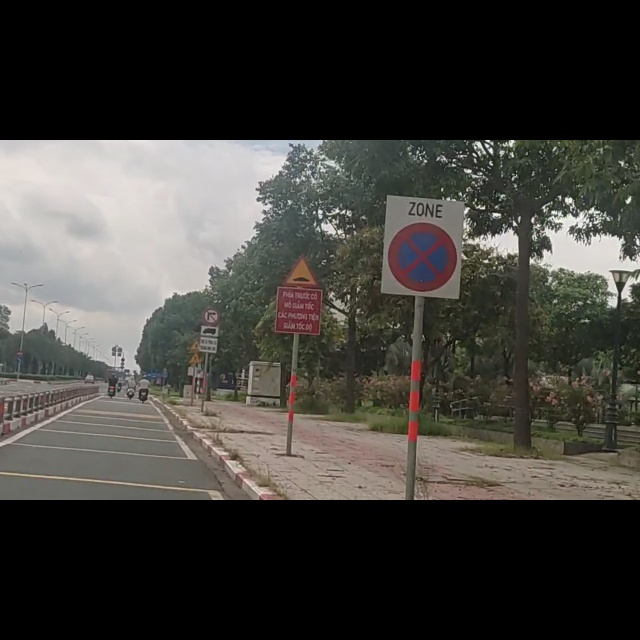bien_cam: (383, 101, 464, 279), (281, 204, 320, 262), (199, 331, 219, 380), (202, 299, 221, 329)
